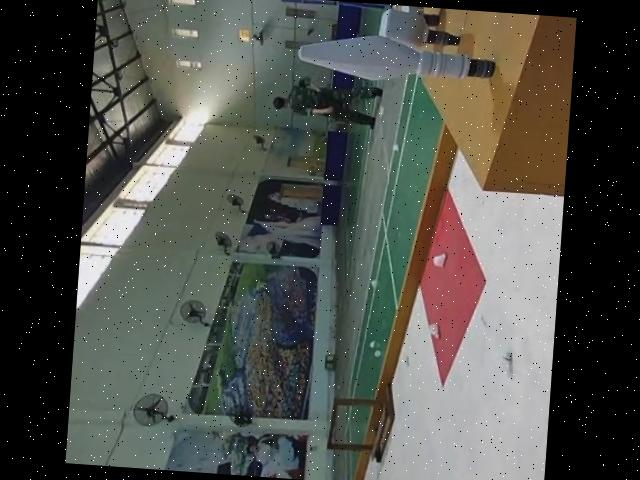Fist: (373, 5, 462, 49)
Sph: (293, 24, 503, 88)
